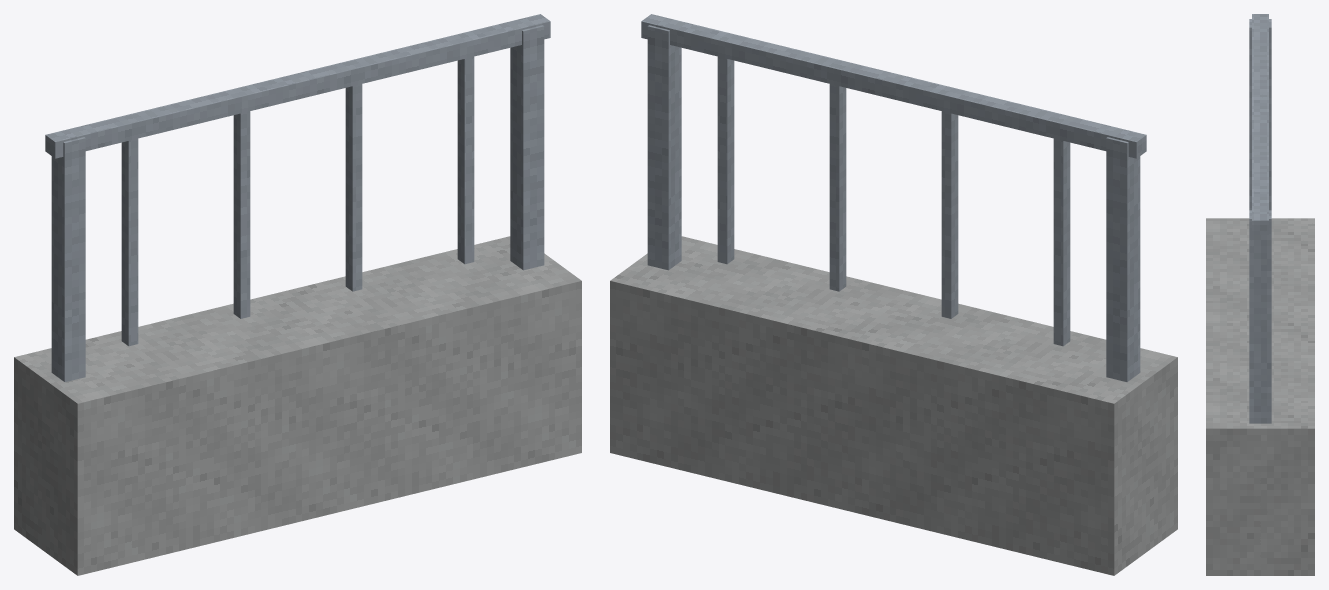
Rendered from level_blockout_lighthouse_cliff_guard.glb.
3 views of the same model, side by side, from view 1: azimuth 30°, elevation 25°; view 2: azimuth 150°, elevation 25°; view 3: azimuth 270°, elevation 25° (orthographic). The views are drawn at different scales.
Visible parts, largest first — view 1: level_blockout_lighthouse_cliff_guard; view 2: level_blockout_lighthouse_cliff_guard; view 3: level_blockout_lighthouse_cliff_guard.
Part boxes in pixels (box(x1,y1,x2,y2)): level_blockout_lighthouse_cliff_guard: box(14, 14, 581, 575); level_blockout_lighthouse_cliff_guard: box(610, 14, 1177, 575); level_blockout_lighthouse_cliff_guard: box(1206, 14, 1314, 575).
Bounding box in the file's own units: 2.88 × 2.26 × 0.63.
Materials: 2 (2 with a texture image).
